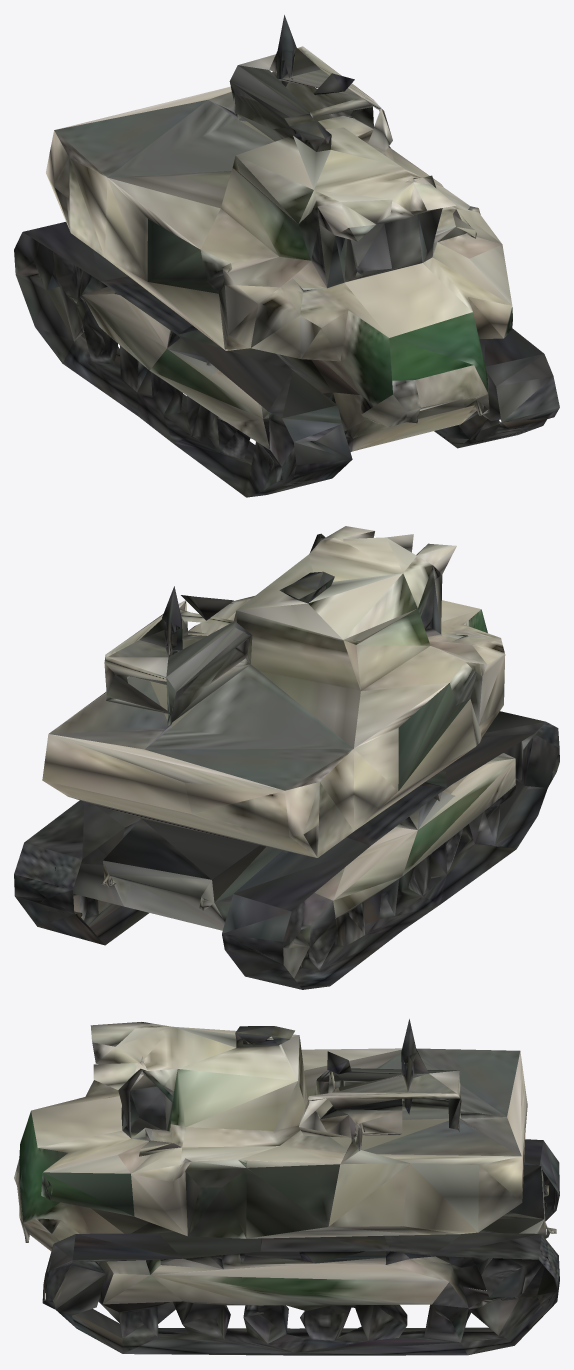
File: t243_extr_lod1.glb
3 views of the same model, one above another, from view 1: azimuth 30°, elevation 25°; view 2: azimuth 150°, elevation 25°; view 3: azimuth 270°, elevation 25° (orthographic). The views are drawn at different scales.
Size of the model in its own units: 3.15 by 3.67 by 6.
1 material, 1 textured.
